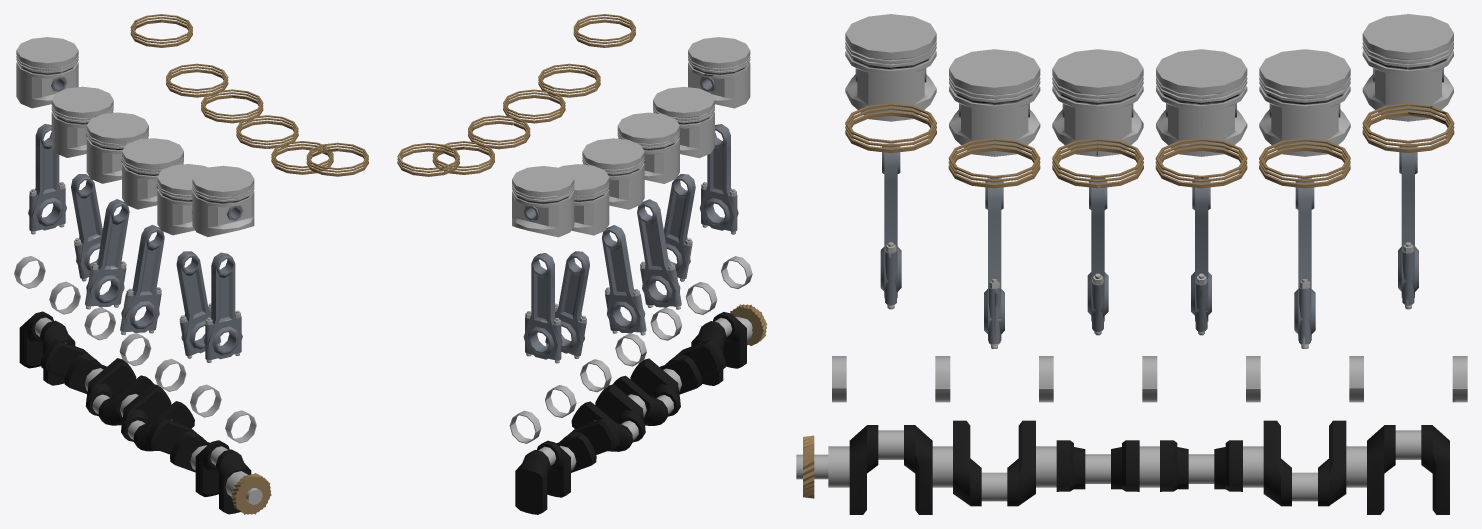
File: tcc-fundamentos-rotativo.glb
The picture shows the model from 3 angles, left to right: view 1: azimuth 30°, elevation 25°; view 2: azimuth 150°, elevation 25°; view 3: azimuth 270°, elevation 25°; orthographic projection. The views are drawn at different scales.
Visible parts, largest first — view 1: pistao, biela, virabrequim, aneis, bronzinas; view 2: pistao, biela, virabrequim, aneis, bronzinas; view 3: pistao, virabrequim, biela, aneis, bronzinas.
Part boxes in pixels (x1,y1,x2,y2): pistao: [16, 37, 254, 236]; biela: [28, 124, 242, 362]; virabrequim: [19, 311, 271, 514]; aneis: [130, 14, 368, 176]; bronzinas: [14, 256, 256, 443]; pistao: [512, 37, 750, 237]; biela: [523, 124, 738, 363]; virabrequim: [515, 304, 767, 514]; aneis: [397, 14, 635, 176]; bronzinas: [509, 256, 752, 443]; pistao: [845, 14, 1453, 156]; virabrequim: [796, 420, 1449, 514]; biela: [880, 143, 1418, 348]; aneis: [845, 103, 1454, 188]; bronzinas: [832, 356, 1467, 402].
Bounding box in the file's own units: 0.3043 × 0.5412 × 0.6916.
1 material, 1 textured.
